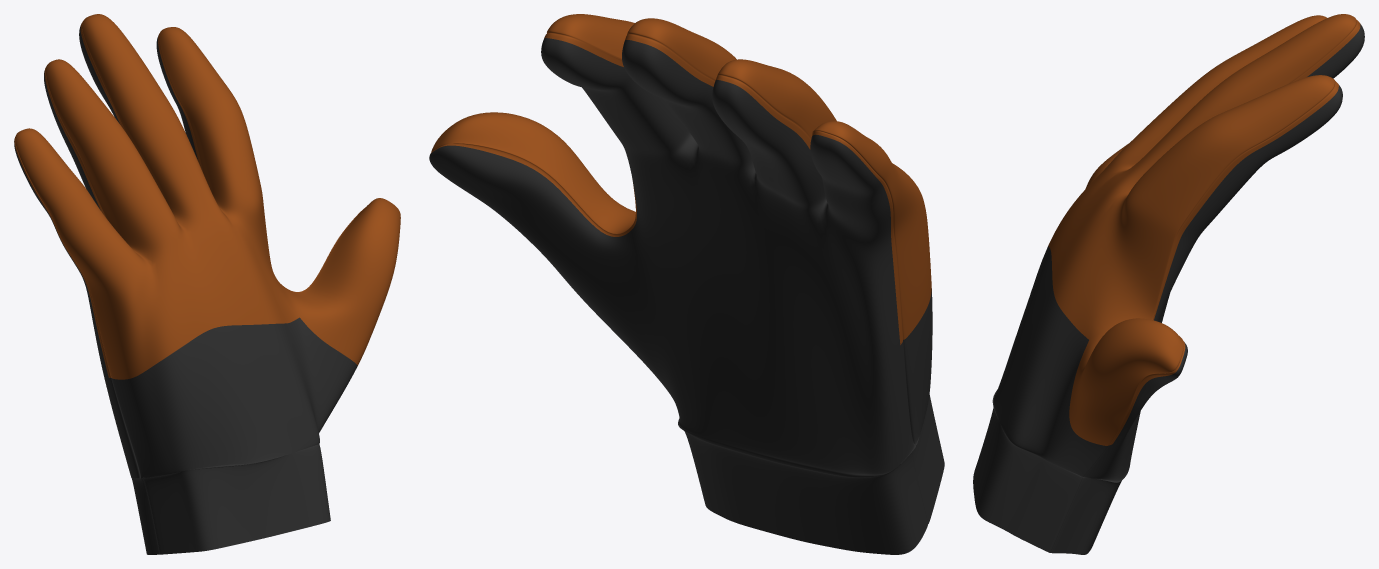
File: Safety Gloves_Model.fbx
The picture shows the model from 3 angles, left to right: view 1: azimuth 30°, elevation 25°; view 2: azimuth 150°, elevation 25°; view 3: azimuth 270°, elevation 25°; orthographic projection. The views are drawn at different scales.
Visible parts, largest first — view 1: Cube.001; view 2: Cube.001; view 3: Cube.001.
Part boxes in pixels (left/top/right/bottom): Cube.001: left=14, top=14, right=400, bottom=554; Cube.001: left=429, top=14, right=944, bottom=554; Cube.001: left=973, top=14, right=1364, bottom=554.
Size of the model in its own units: 225 by 282 by 200.
